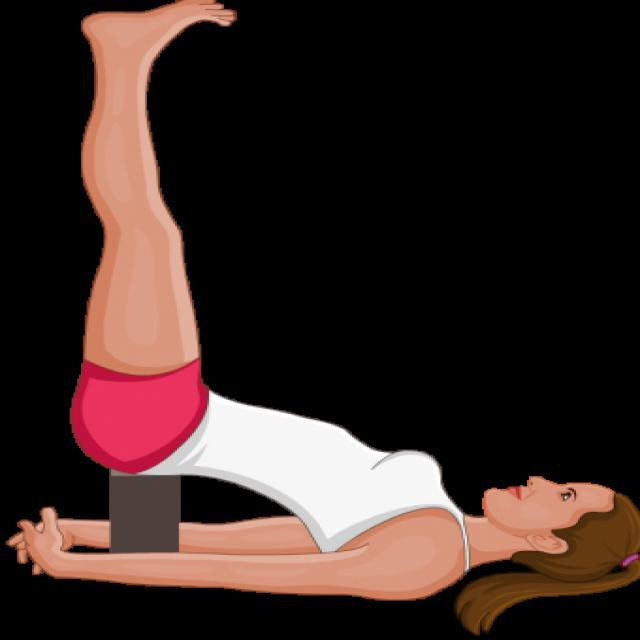yoga-pose shoulderstand: (26, 0, 610, 587)
